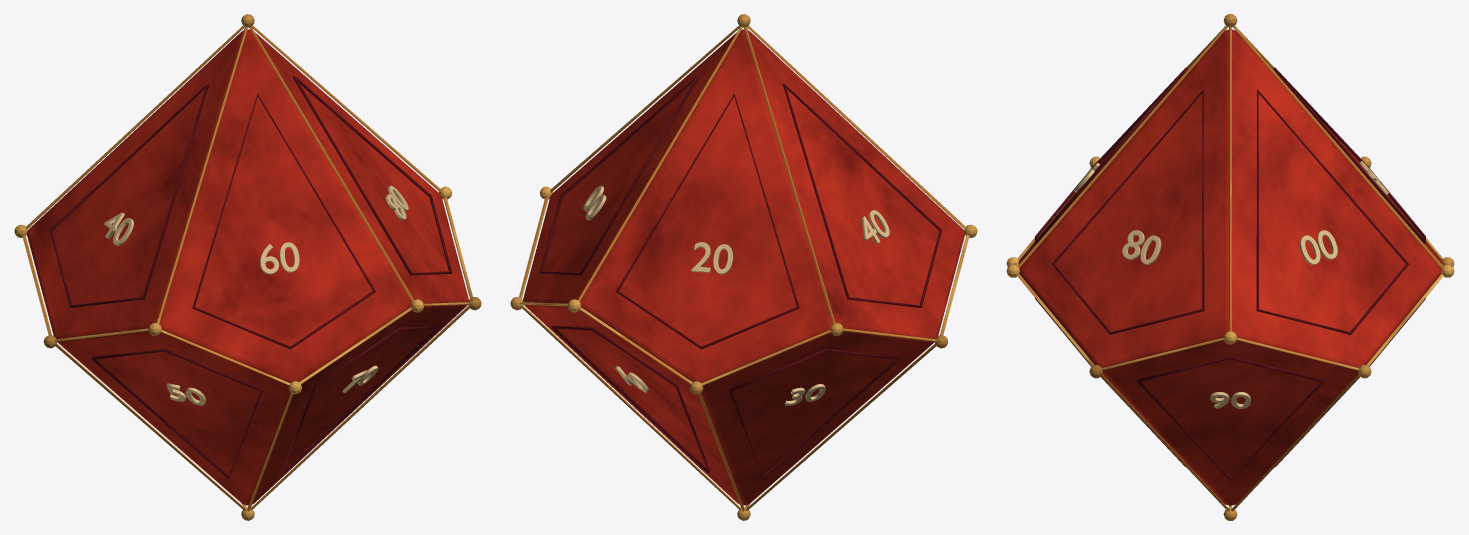
The model's file is D10_百分骰_00-90_朱砂鎏金_baked.glb.
3 renders of one model, left to right at view 1: azimuth 30°, elevation 25°; view 2: azimuth 150°, elevation 25°; view 3: azimuth 270°, elevation 25°, orthographic.
Visible parts, largest first — view 1: D10_00_90_Body_10_Faces, D10_00_90_Aged_Bronze_Edges, D10_00_90_Occult_Face_Borders, D10_00_90_Vertex_Studs, D10_00_90_Face_07_60, D10_00_90_Face_05_40; view 2: D10_00_90_Body_10_Faces, D10_00_90_Aged_Bronze_Edges, D10_00_90_Occult_Face_Borders, D10_00_90_Vertex_Studs, D10_00_90_Face_03_20, D10_00_90_Face_05_40; view 3: D10_00_90_Body_10_Faces, D10_00_90_Occult_Face_Borders, D10_00_90_Aged_Bronze_Edges, D10_00_90_Vertex_Studs, D10_00_90_Face_09_80, D10_00_90_Face_01_00.
Boxes of the visible parts, x1,y1,x2,y2 form: D10_00_90_Body_10_Faces: (27,29,468,505); D10_00_90_Aged_Bronze_Edges: (22,25,472,511); D10_00_90_Occult_Face_Borders: (50,76,452,478); D10_00_90_Vertex_Studs: (14,14,481,520); D10_00_90_Face_07_60: (260,242,299,274); D10_00_90_Face_05_40: (104,212,133,245); D10_00_90_Body_10_Faces: (523,29,964,505); D10_00_90_Aged_Bronze_Edges: (519,25,969,511); D10_00_90_Occult_Face_Borders: (539,76,941,478); D10_00_90_Vertex_Studs: (510,14,977,520); D10_00_90_Face_03_20: (691,242,733,274); D10_00_90_Face_05_40: (861,210,889,244); D10_00_90_Body_10_Faces: (1018,29,1442,505); D10_00_90_Occult_Face_Borders: (1035,67,1425,480); D10_00_90_Aged_Bronze_Edges: (1013,25,1447,511); D10_00_90_Vertex_Studs: (1006,14,1454,520); D10_00_90_Face_09_80: (1122,230,1161,264); D10_00_90_Face_01_00: (1299,230,1337,264).
Size of the model in its own units: 3.76 by 4.47 by 3.58.
Materials: 14 (14 with a texture image).
